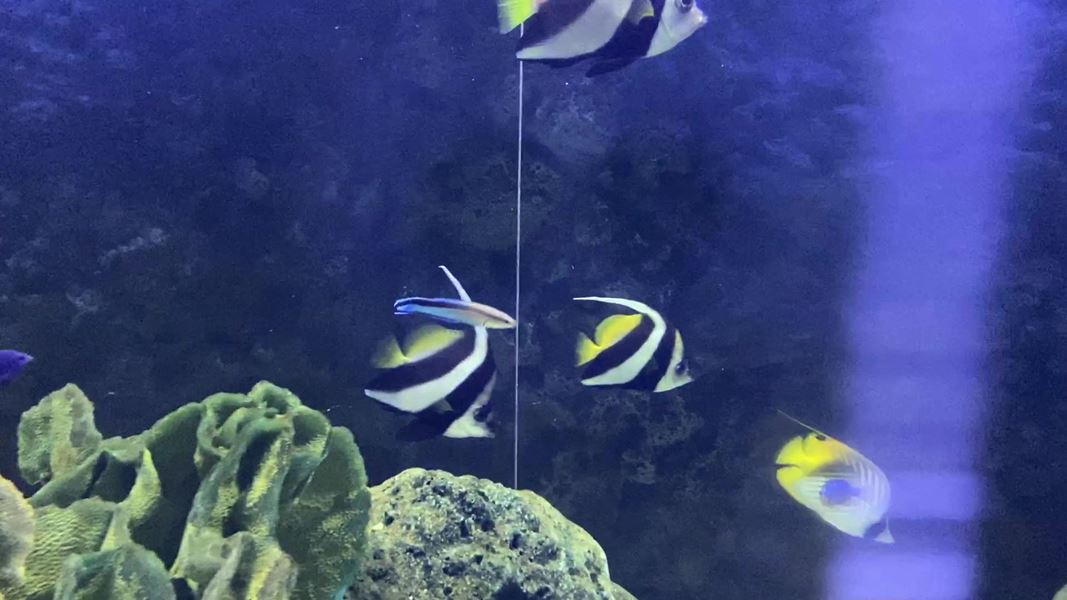Bluesteak cleaner wrasse: (384, 285, 526, 341)
